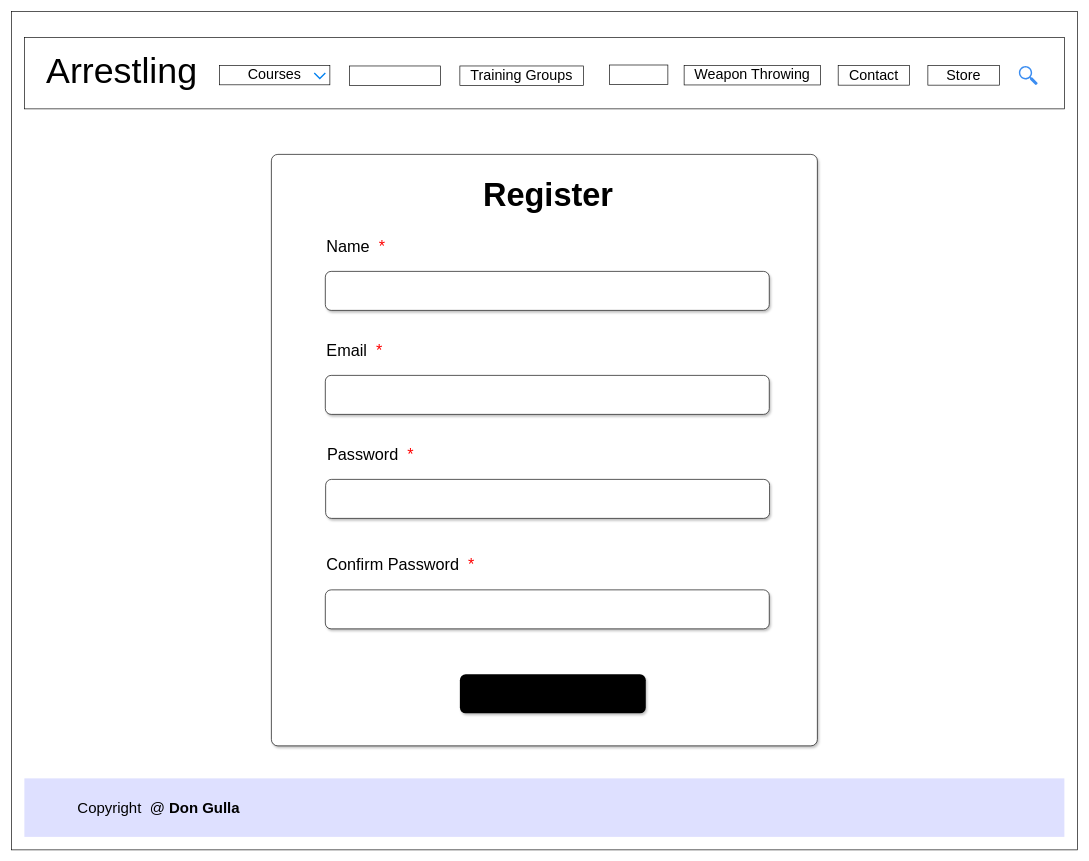
The diagram is 1089 pixels wide and 861 high, and some of its shapes have lost their labels. The shapes that lost their labels are listed below. From the top down, each one's centre as x and y in pixels, then its label:
At point 394,75: "Schedule".
At point 638,74: "About".
At point 553,694: "SIGN UP".
